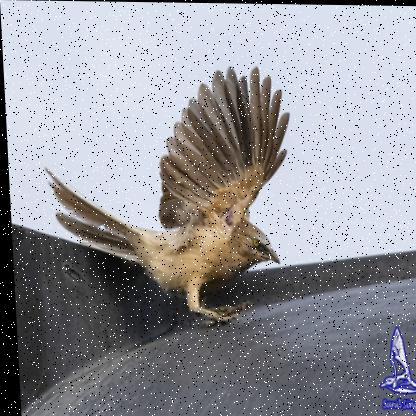Burung: (39, 63, 296, 323)
